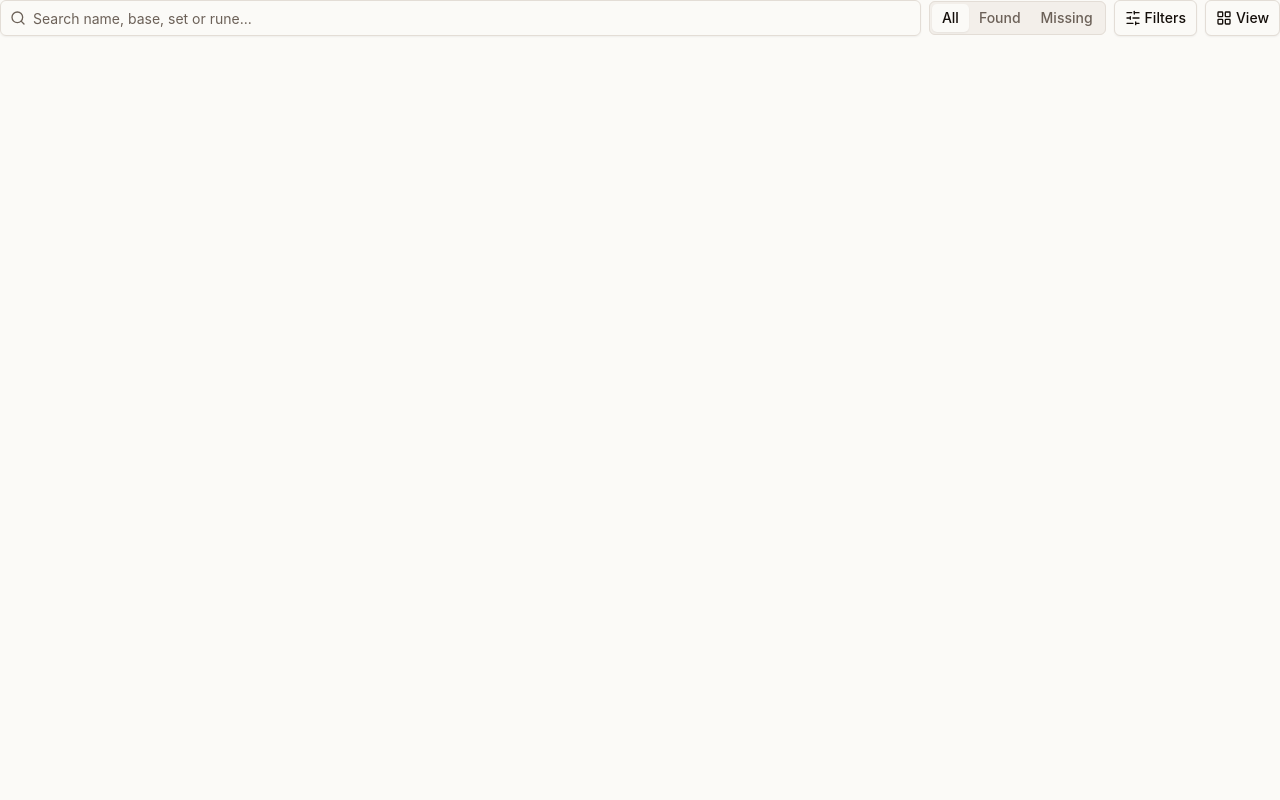
Test: When AdvancedSearch toolbar is rendered › If user picks a sort field in the view popover › Then updates the store, shows the translated label and keeps the popover open
Click the button "View" at (1242, 18), box [1205, 0, 1279, 36]
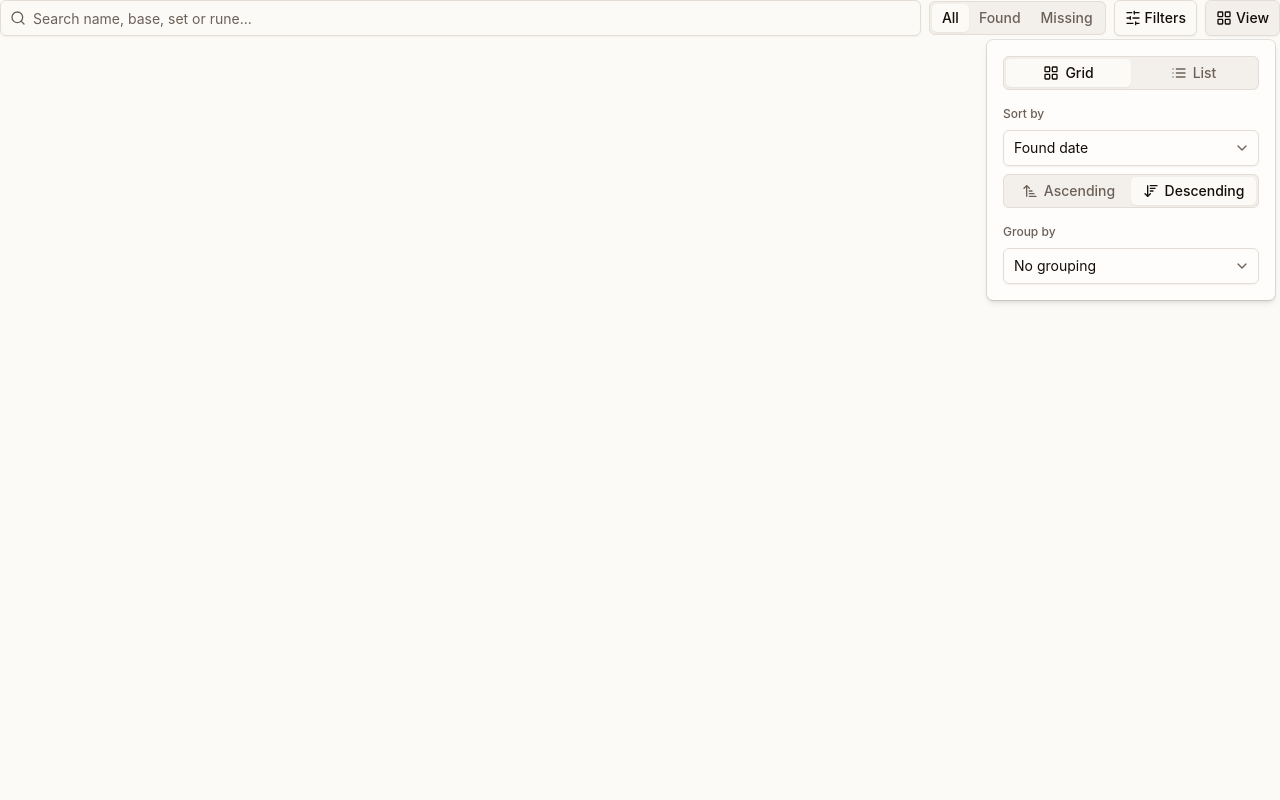
Click the dropdown named "Sort by" at (1131, 148), box [1003, 130, 1259, 166]
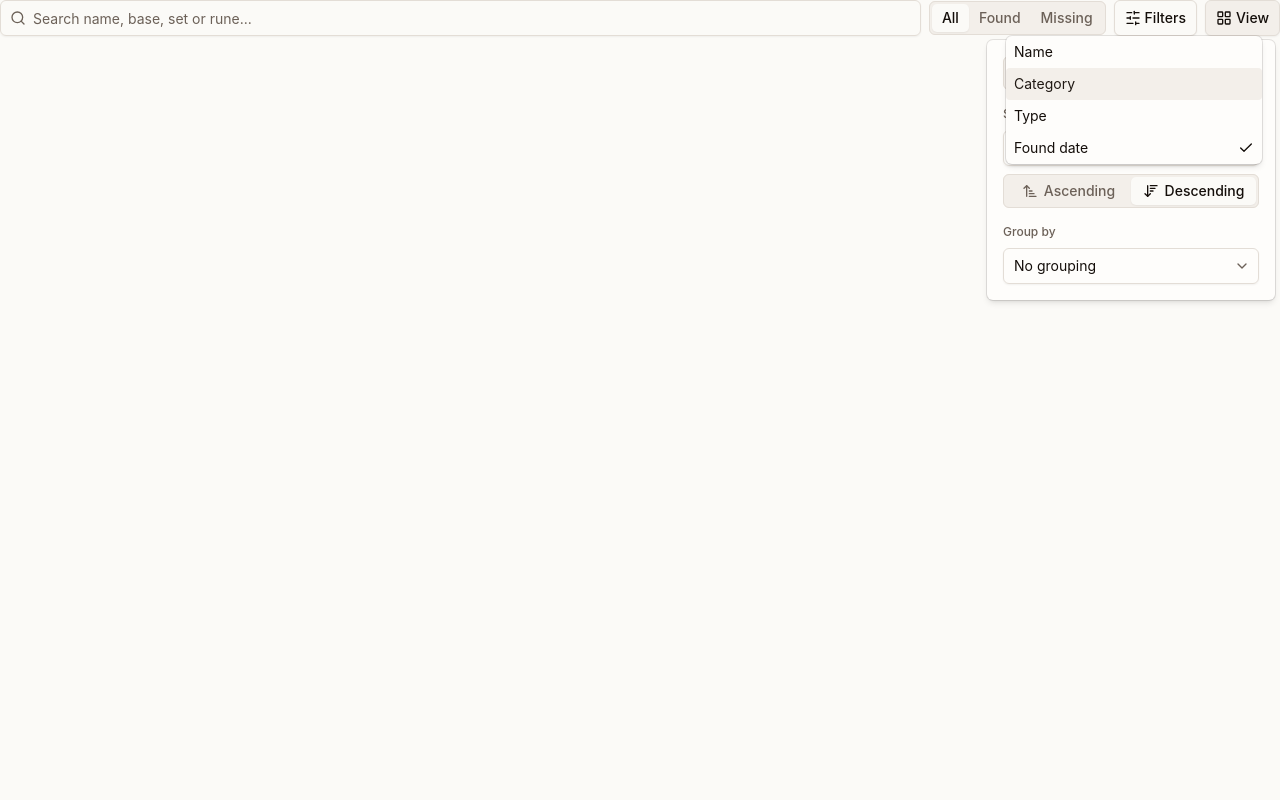
Click the option "Category" at (1134, 84), box [1006, 68, 1262, 100]
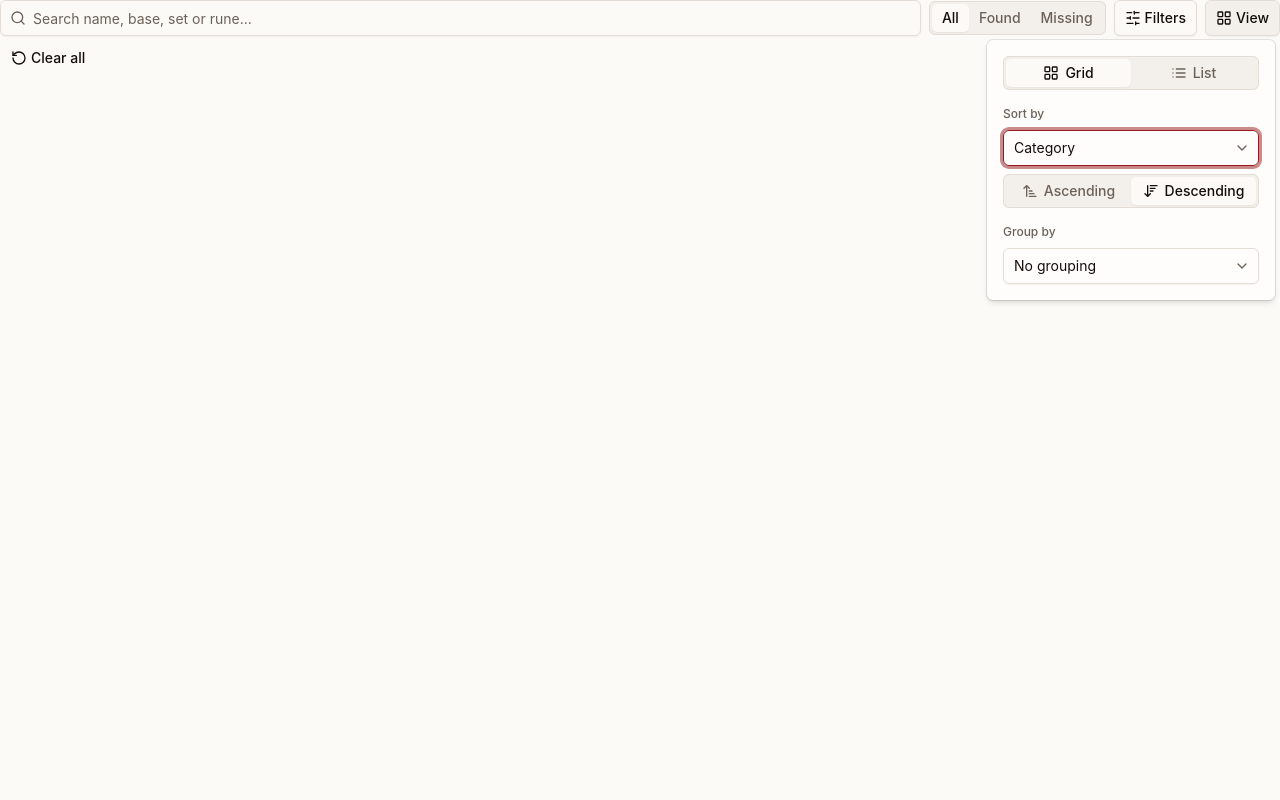
Result: the dialog named "View options" is shown at [987, 40, 1275, 300]
Result: the dropdown named "Sort by" shows "Category" at [1003, 130, 1259, 166]
